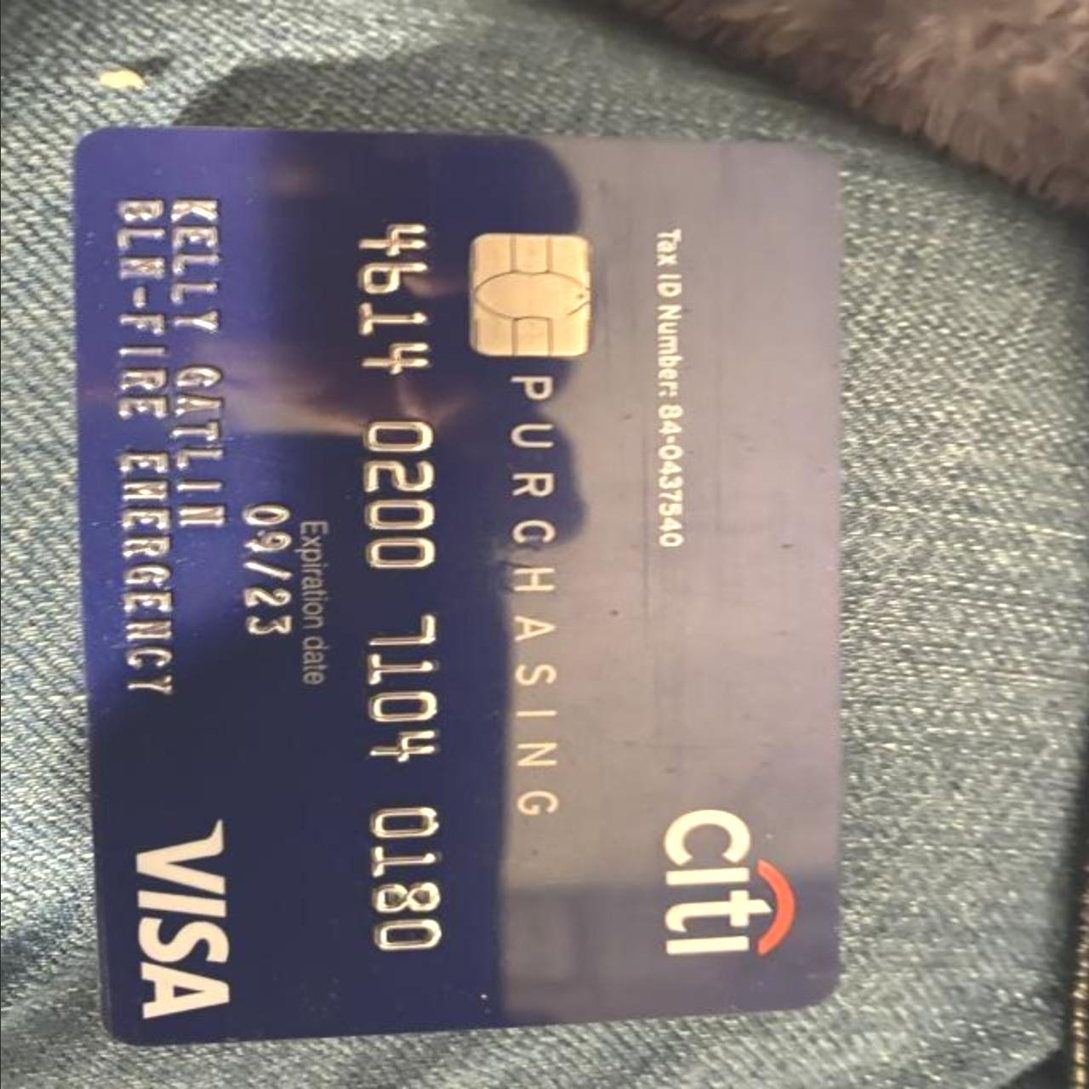credit_card: (71, 126, 841, 1052)
